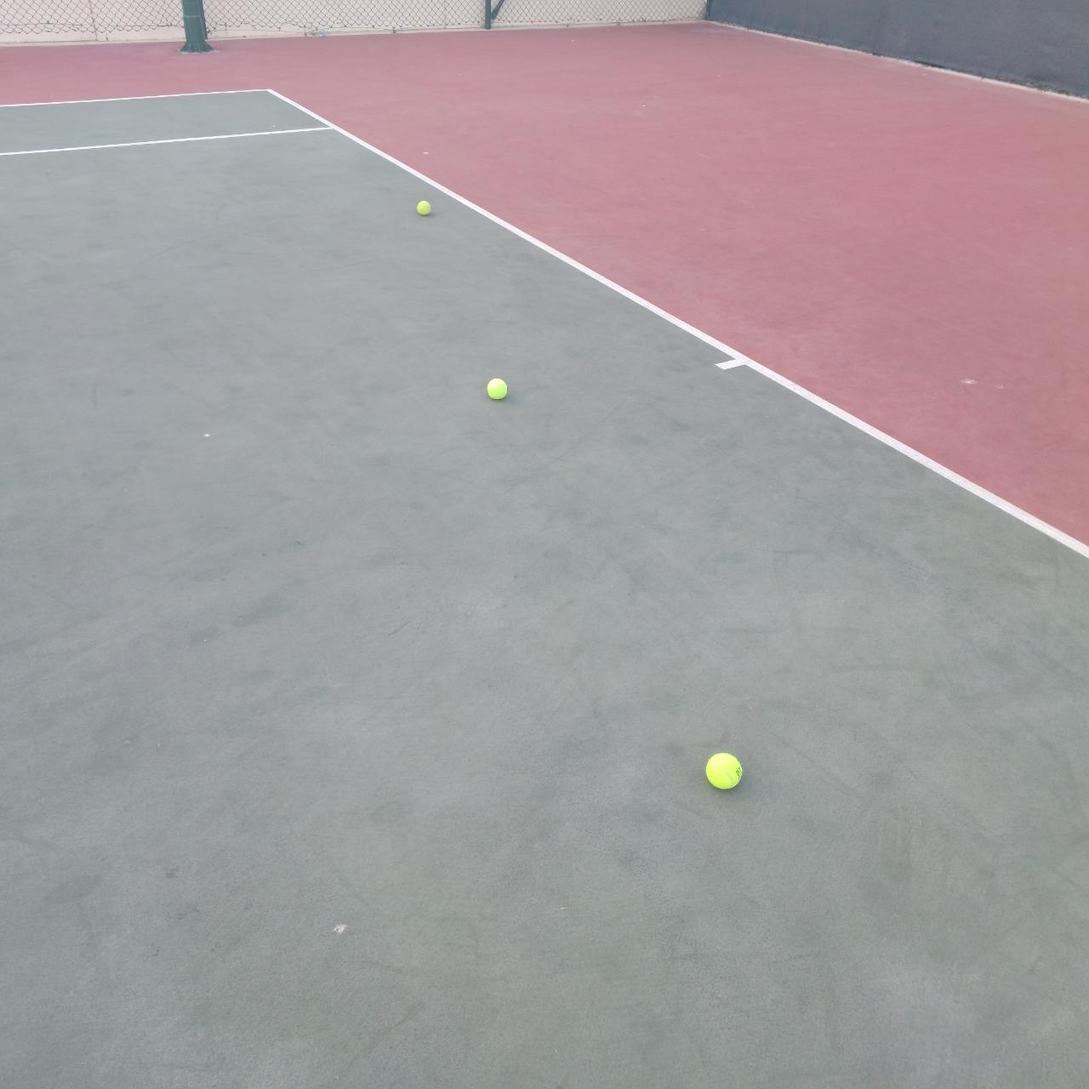tennis-ball: (704, 749, 744, 790), (487, 375, 510, 401), (417, 200, 431, 216)
